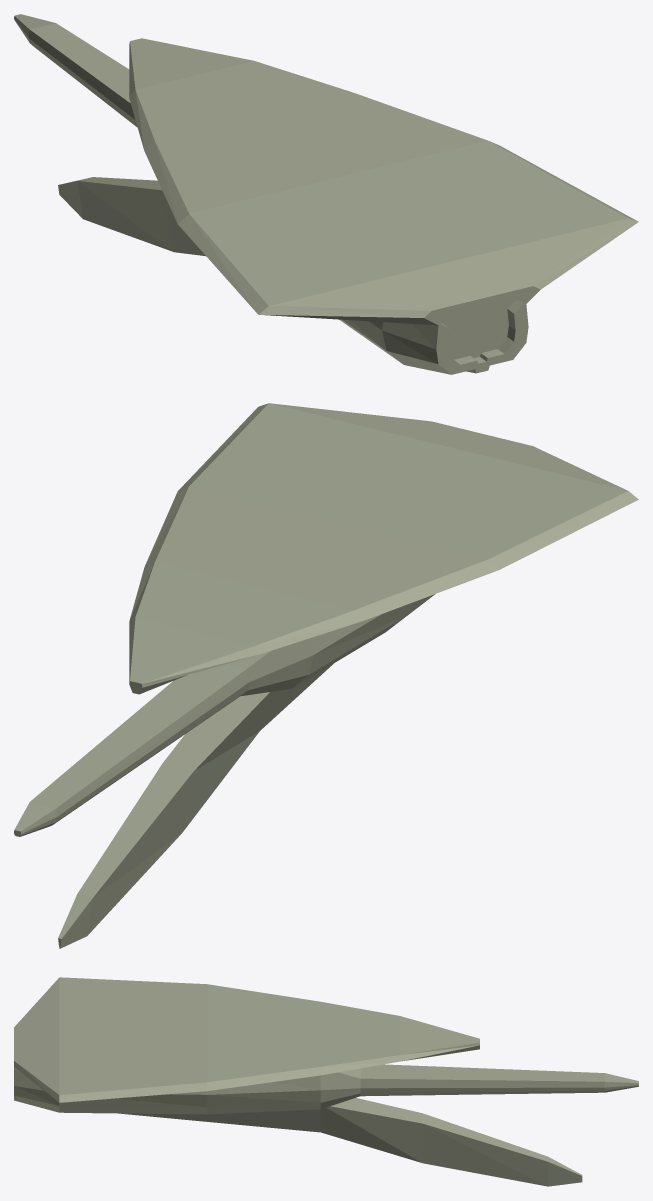
File: hooded_lance.glb
3 views of the same model, one above another, from view 1: azimuth 30°, elevation 25°; view 2: azimuth 150°, elevation 25°; view 3: azimuth 270°, elevation 25° (orthographic). The views are drawn at different scales.
Visible parts, largest first — view 1: hull_hull; view 2: hull_hull; view 3: hull_hull.
Boxes of the visible parts, <box> form: hull_hull: <box>14,14,638,374</box>; hull_hull: <box>14,403,638,948</box>; hull_hull: <box>14,977,638,1186</box>.
Bounding box in the file's own units: 52 × 29.66 × 110.
